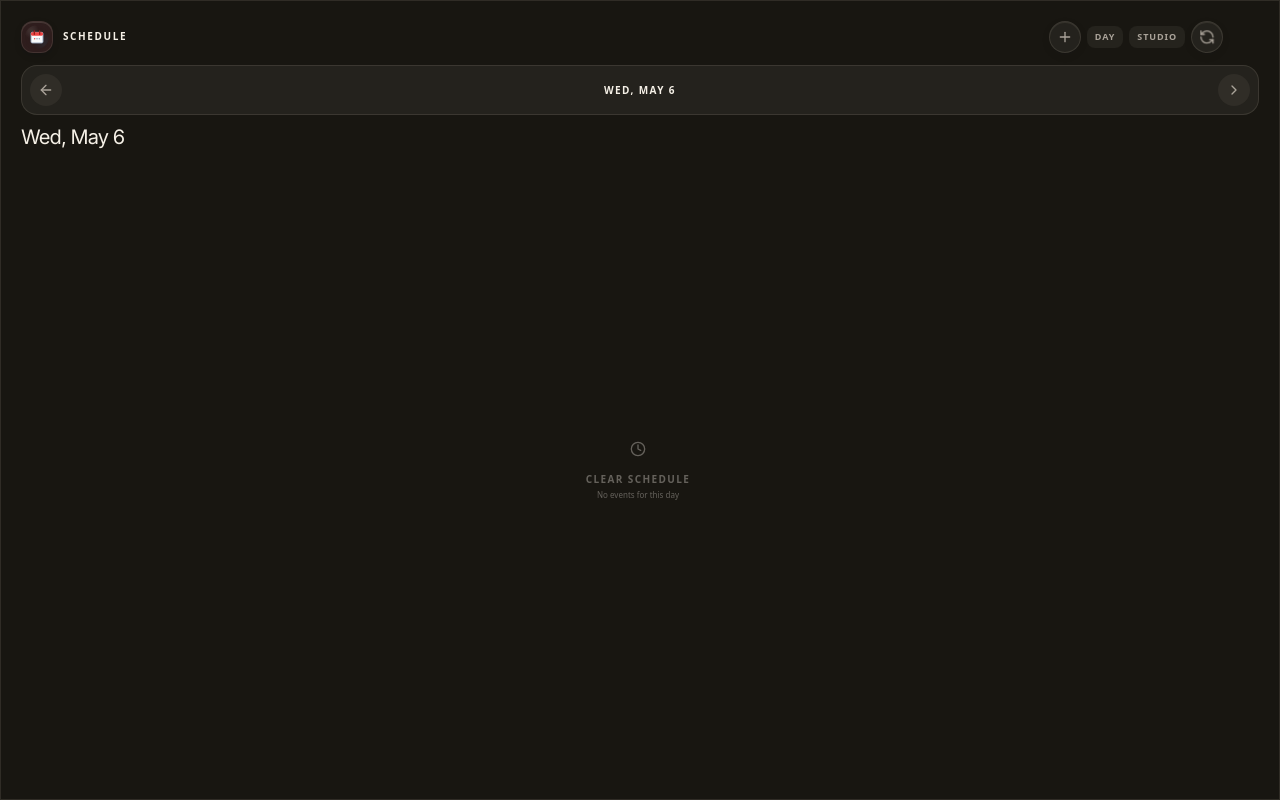
Test case: CalendarWidget › keeps a weekly board available in studio mode
The image size is (1280, 800).
Click the button "day": (1105, 37) [1087, 26, 1123, 48]
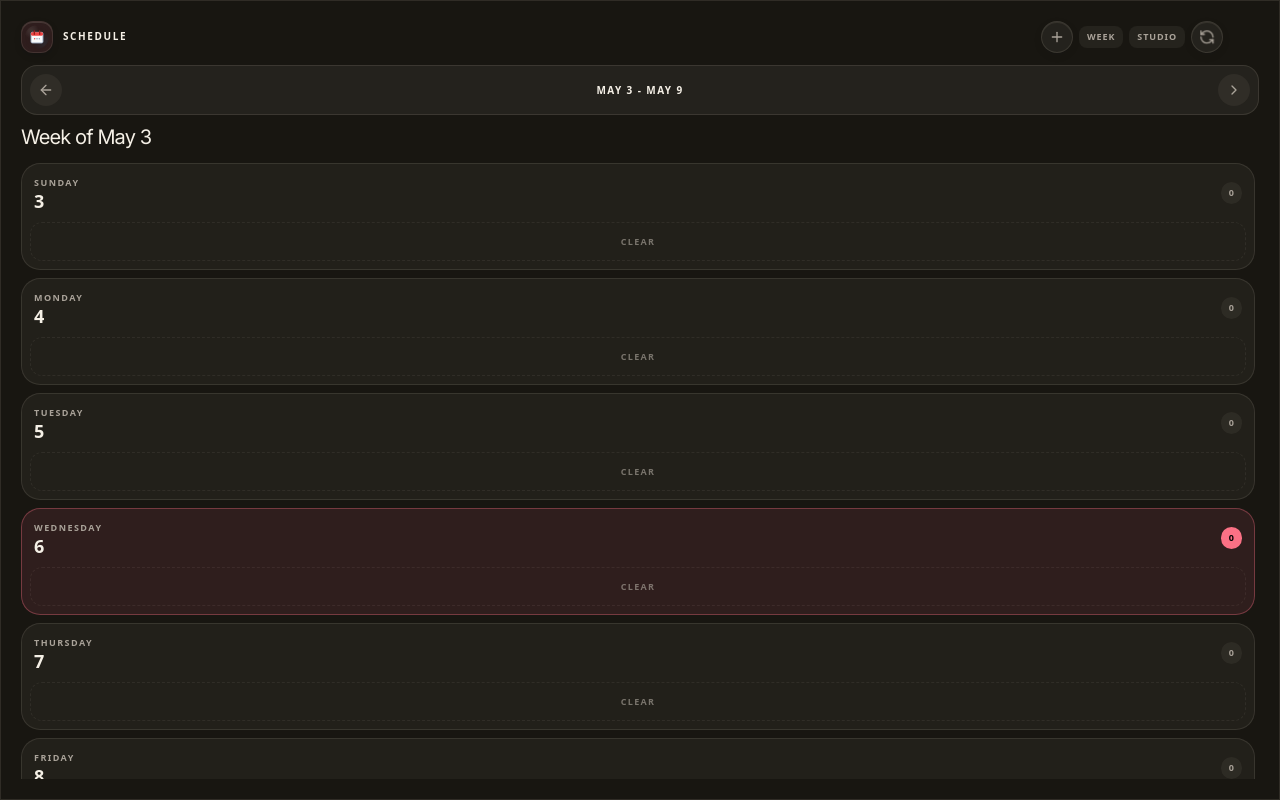
Expected: the element with test id "calendar-week-board" is shown
